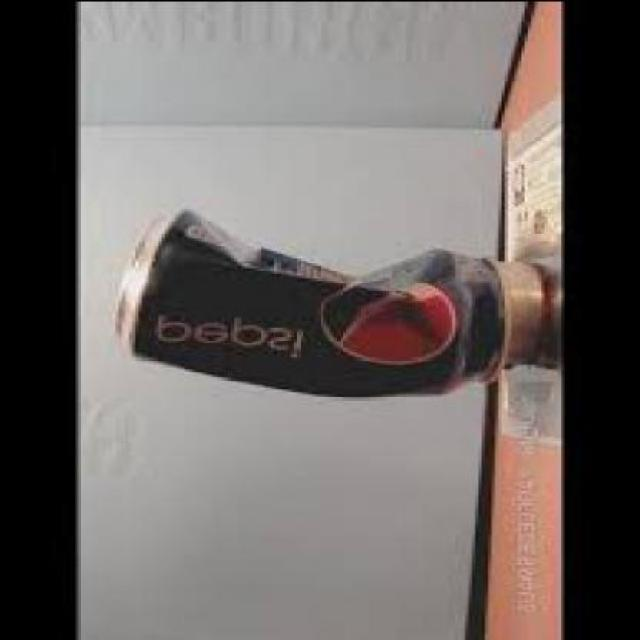METAL: (109, 202, 548, 396)
